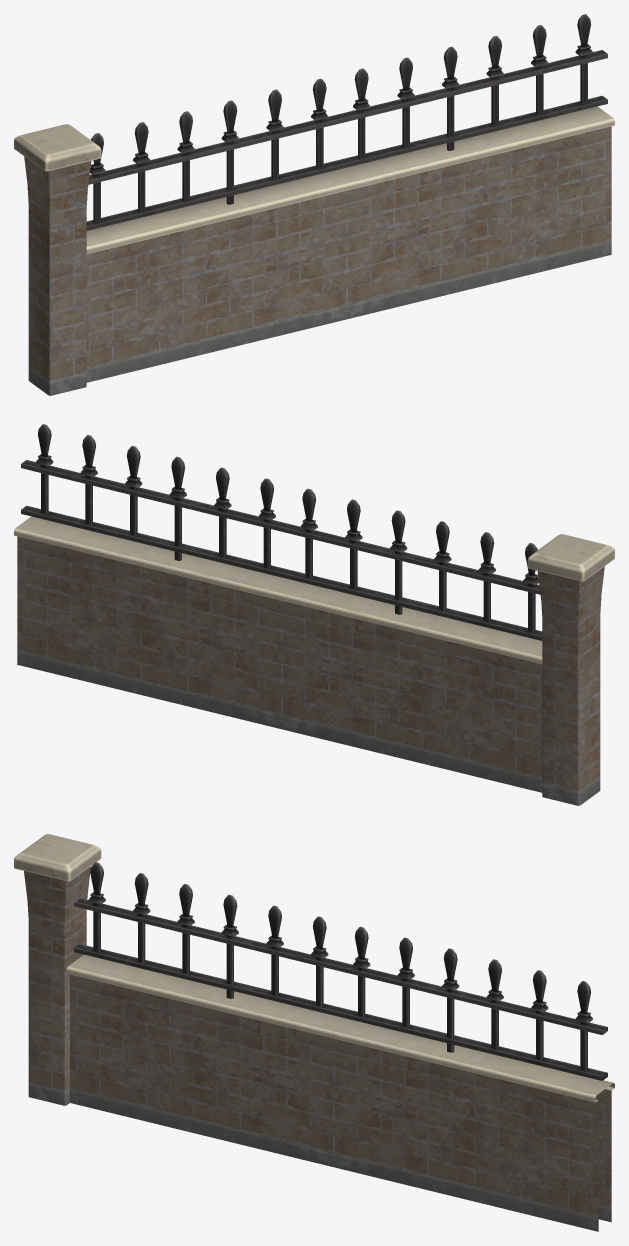
File: StreetFence02_A2.FBX
3 views of the same model, one above another, from view 1: azimuth 30°, elevation 25°; view 2: azimuth 150°, elevation 25°; view 3: azimuth 330°, elevation 25° (orthographic).
Visible parts, largest first — view 1: StreetFence02_A2; view 2: StreetFence02_A2; view 3: StreetFence02_A2.
Part boxes in pixels (x1,y1,x2,y2): StreetFence02_A2: (14,14,614,395); StreetFence02_A2: (14,424,614,805); StreetFence02_A2: (14,834,614,1231).
Size of what is drawn, in the model's own units: 4.58 by 1.86 by 0.4485.
